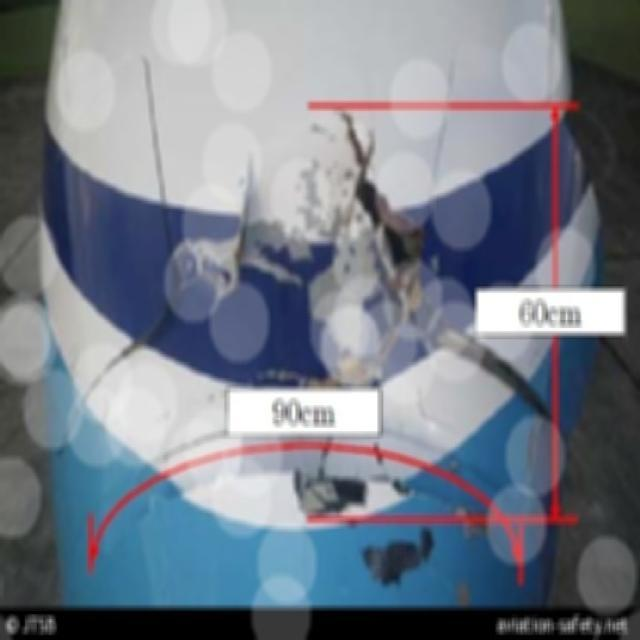crack: (342, 122, 554, 431)
